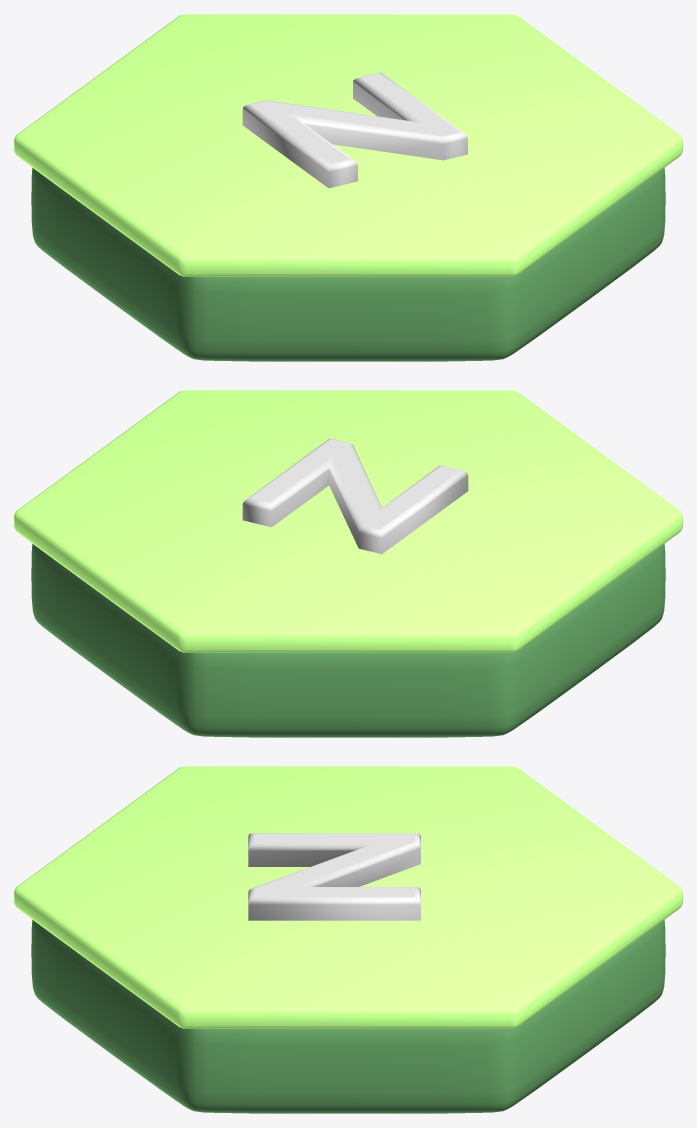
File: nodejs.glb
The picture shows the model from 3 angles, top to bottom: view 1: azimuth 30°, elevation 25°; view 2: azimuth 150°, elevation 25°; view 3: azimuth 270°, elevation 25°; orthographic projection.
Visible parts, largest first — view 1: Cylinder.001, Cylinder, Text; view 2: Cylinder.001, Cylinder, Text; view 3: Cylinder.001, Cylinder, Text.
Part boxes in pixels (bbox=[...]): Cylinder.001: bbox=[14, 14, 682, 276]; Cylinder: bbox=[31, 168, 665, 361]; Text: bbox=[242, 72, 467, 188]; Cylinder.001: bbox=[14, 390, 682, 652]; Cylinder: bbox=[31, 544, 665, 737]; Text: bbox=[242, 438, 468, 554]; Cylinder.001: bbox=[14, 766, 682, 1028]; Cylinder: bbox=[31, 920, 665, 1113]; Text: bbox=[248, 833, 420, 920].
Bounding box in the file's own units: 0.9873 × 0.2596 × 1.13.
